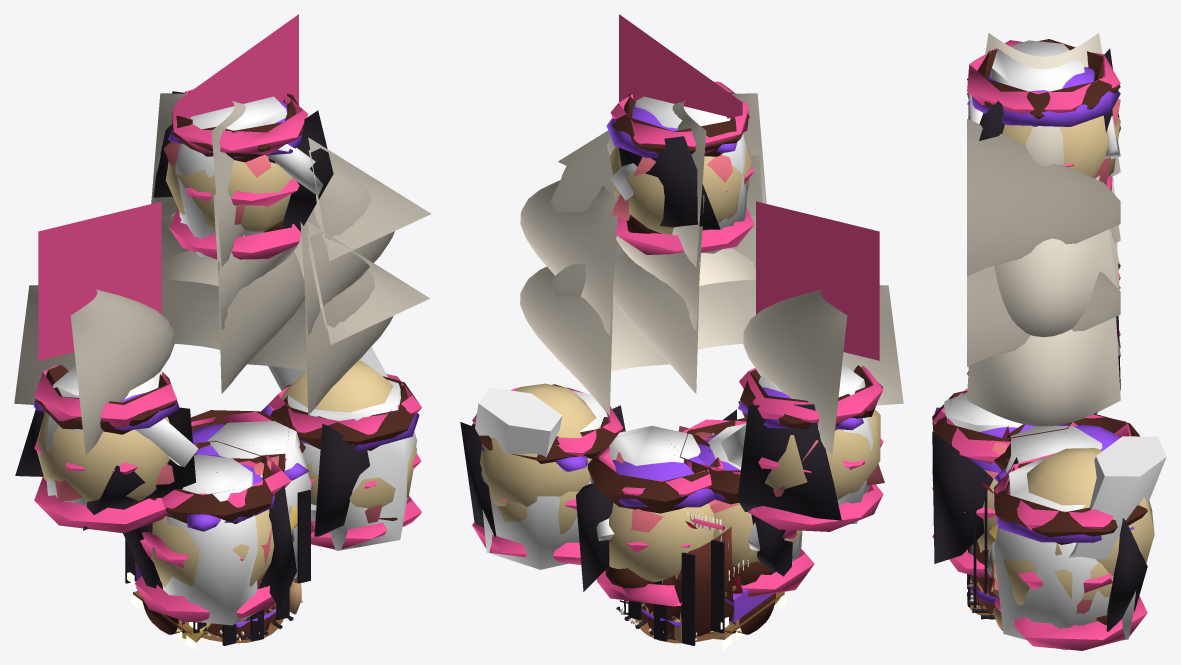
Rendered from navire-v4-leger.glb.
3 renders of one model, left to right at view 1: azimuth 30°, elevation 25°; view 2: azimuth 150°, elevation 25°; view 3: azimuth 270°, elevation 25°, orthographic. The views are drawn at different scales.
Visible parts, largest first — view 1: matelot_corde.003, matelot_barreur.003, matelot_vigie.003, matelot_salut.003, drapeau.004, voile_artimon.003, voile_grande.004, voile_misaine.004, voile_misaine_hune.003, flamme.004, matelot_porteur.003, navire_corps.004 (+5 smaller); view 2: matelot_barreur.003, matelot_porteur.003, matelot_vigie.003, drapeau.004, voile_artimon.003, matelot_salut.003, matelot_salut_bras.003, voile_grande.004, navire_corps.004, voile_misaine.004, matelot_corde.003, voile_misaine_hune.003 (+5 smaller); view 3: matelot_salut.003, matelot_vigie.003, voile_foc.004, voile_misaine.004, matelot_corde.003, matelot_salut_bras.003, voile_misaine_hune.003, voile_foc2.003, matelot_porteur.003, voile_perroquet.004, navire_corps.004.
Part boxes in pixels (box(x1,y1,x2,y2)): matelot_corde.003: box(123, 440, 296, 625); matelot_barreur.003: box(15, 365, 198, 533); matelot_vigie.003: box(153, 89, 333, 259); matelot_salut.003: box(261, 374, 421, 550); drapeau.004: box(38, 201, 161, 360); voile_artimon.003: box(14, 285, 174, 455); voile_grande.004: box(161, 216, 304, 393); voile_misaine.004: box(247, 270, 393, 415); voile_misaine_hune.003: box(300, 172, 394, 335); flamme.004: box(175, 14, 298, 118); matelot_porteur.003: box(191, 410, 314, 577); navire_corps.004: box(125, 489, 310, 650); matelot_barreur.003: box(720, 364, 884, 531); matelot_porteur.003: box(576, 426, 723, 606); matelot_vigie.003: box(606, 81, 754, 254); drapeau.004: box(756, 201, 879, 360); voile_artimon.003: box(743, 285, 903, 455); matelot_salut.003: box(460, 384, 625, 569); matelot_salut_bras.003: box(475, 383, 600, 506); voile_grande.004: box(613, 216, 755, 393); navire_corps.004: box(616, 511, 786, 650); voile_misaine.004: box(520, 266, 669, 415); matelot_corde.003: box(667, 409, 814, 596); voile_misaine_hune.003: box(520, 180, 617, 335); matelot_salut.003: box(994, 453, 1147, 650); matelot_vigie.003: box(967, 39, 1120, 190); voile_foc.004: box(967, 119, 1120, 276); voile_misaine.004: box(967, 317, 1120, 426); matelot_corde.003: box(932, 388, 1082, 578); matelot_salut_bras.003: box(1027, 436, 1166, 575); voile_misaine_hune.003: box(994, 175, 1116, 337); voile_foc2.003: box(967, 266, 1120, 366); matelot_porteur.003: box(994, 413, 1139, 502); voile_perroquet.004: box(985, 33, 1120, 176); navire_corps.004: box(967, 482, 1002, 630).
Size of the model in its own units: 6.2 by 9 by 3.05.
